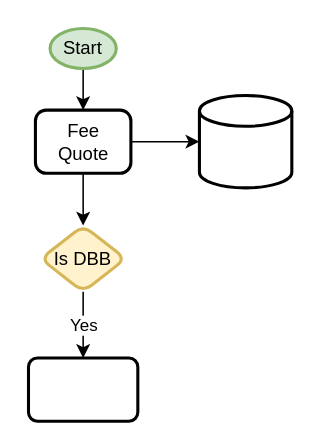
Some shapes in this 319 by 448 pixel diagram are drawn without their labels. Here are the shapes that lost their labels. From the top down, the centre of each, then its label:
[245,141]: PDT Email-list
[82,389]: Comment on SSOW
